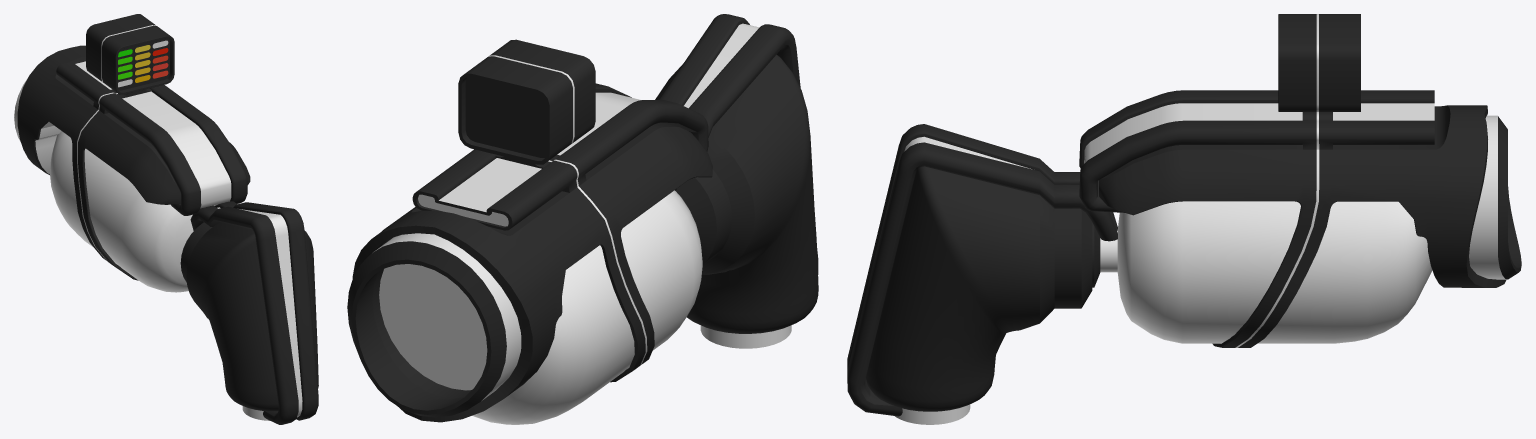
The model's file is Slizator_gun.fbx.
3 views of the same model, side by side, from view 1: azimuth 30°, elevation 25°; view 2: azimuth 150°, elevation 25°; view 3: azimuth 270°, elevation 25° (orthographic). The views are drawn at different scales.
Parts seen in each view (by area): view 1: Slizator_Gun.002, Slizator_Gun.001; view 2: Slizator_Gun.002; view 3: Slizator_Gun.002.
Boxes of the visible parts, x1=… form: Slizator_Gun.002: x1=14, y1=14, x2=318, y2=424; Slizator_Gun.001: x1=118, y1=39, x2=168, y2=87; Slizator_Gun.002: x1=347, y1=14, x2=818, y2=424; Slizator_Gun.002: x1=847, y1=14, x2=1521, y2=424.
Bounding box in the file's own units: 83.37 × 180 × 291.
